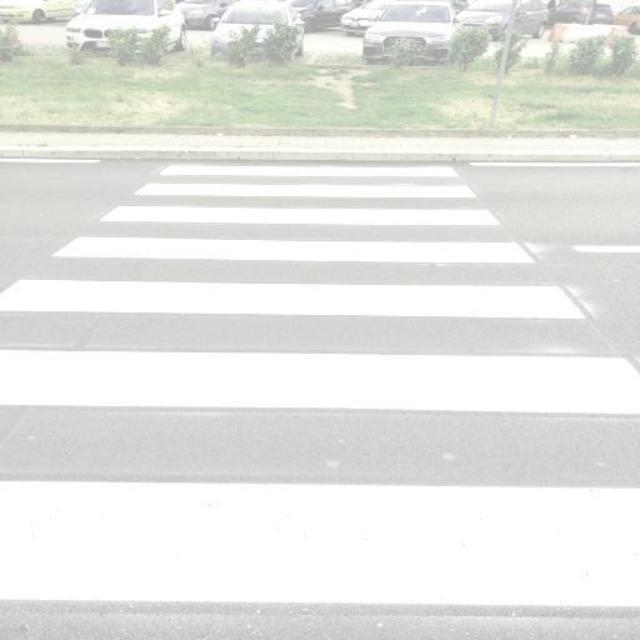sidewalk: (0, 155, 640, 639)
